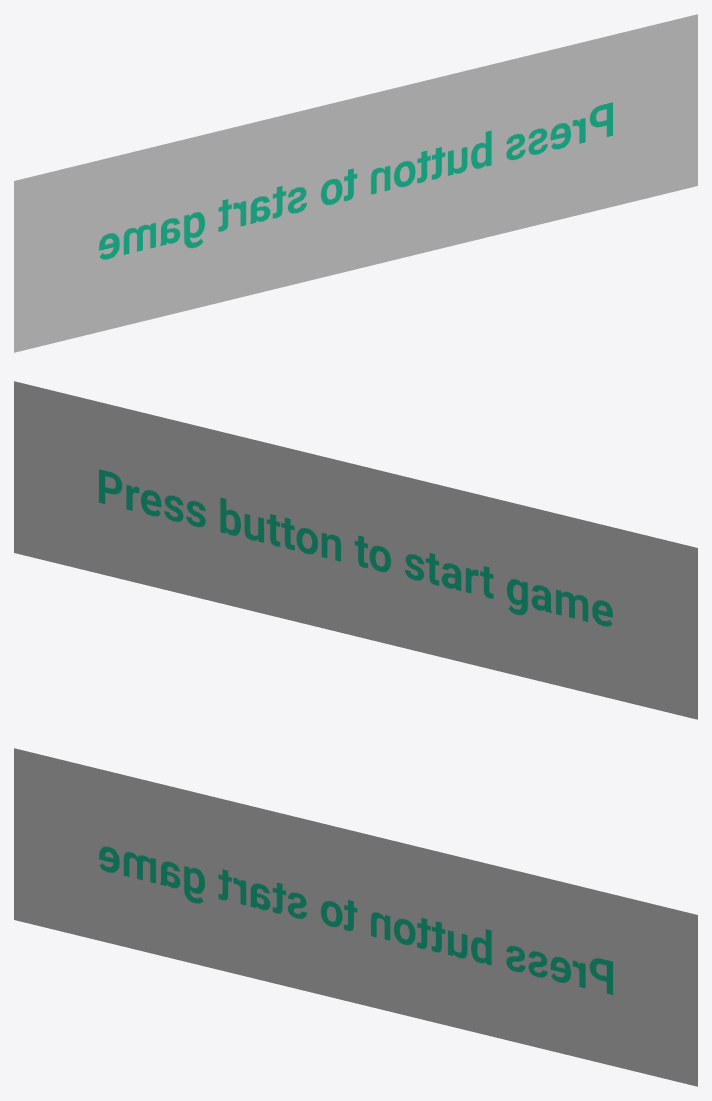
The model's file is StartGameButton.fbx.
3 views of the same model, one above another, from view 1: azimuth 30°, elevation 25°; view 2: azimuth 150°, elevation 25°; view 3: azimuth 330°, elevation 25° (orthographic).
Visible parts, largest first — view 1: StartGameButton; view 2: StartGameButton; view 3: StartGameButton.
Boxes of the visible parts, x1=… form: StartGameButton: x1=14, y1=14, x2=697, y2=352; StartGameButton: x1=14, y1=381, x2=697, y2=719; StartGameButton: x1=14, y1=748, x2=697, y2=1086.
Size of the model in its own units: 100 by 24 by 1.59e-14.
